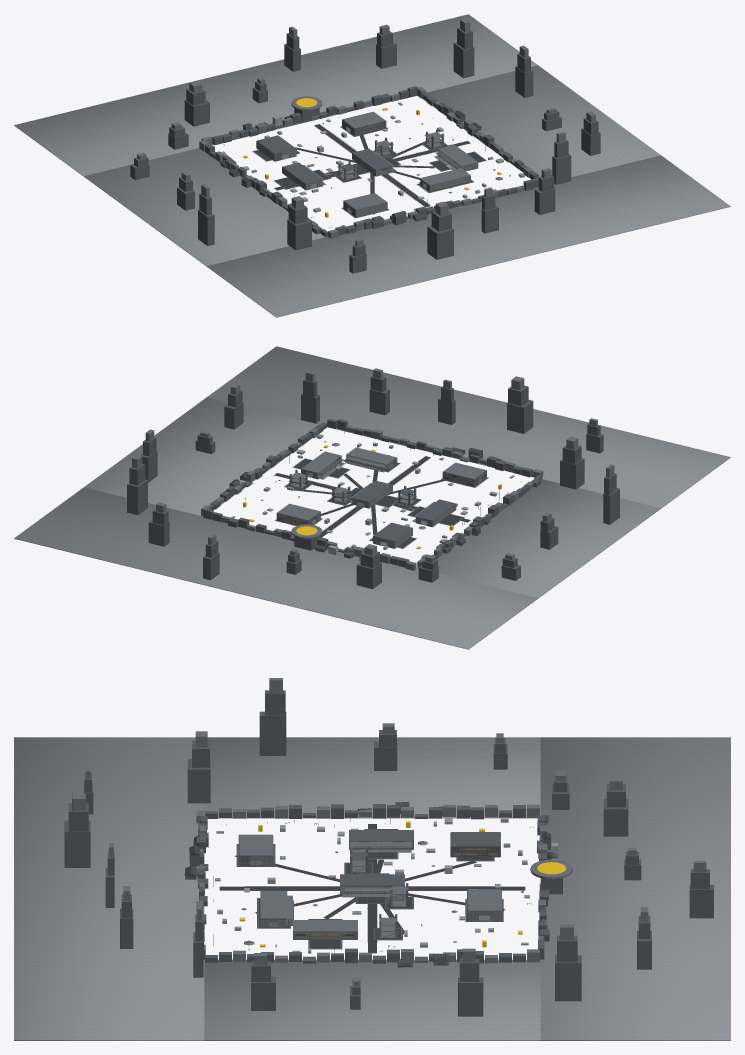
Rendered from okujou-lod1.glb.
3 renders of one model, top to bottom at view 1: azimuth 30°, elevation 25°; view 2: azimuth 150°, elevation 25°; view 3: azimuth 270°, elevation 25°, orthographic. The views are drawn at different scales.
Visible parts, largest first — view 1: HB_okujou_LOD1_terrain, HB_okujou_LOD1_wall_alt, HB_okujou_LOD1_wall, HB_okujou_LOD1_road, HB_okujou_LOD1_obstacle, HB_okujou_LOD1_trim; view 2: HB_okujou_LOD1_terrain, HB_okujou_LOD1_wall_alt, HB_okujou_LOD1_wall, HB_okujou_LOD1_road, HB_okujou_LOD1_obstacle, HB_okujou_LOD1_trim; view 3: HB_okujou_LOD1_terrain, HB_okujou_LOD1_wall_alt, HB_okujou_LOD1_wall, HB_okujou_LOD1_road, HB_okujou_LOD1_obstacle, HB_okujou_LOD1_trim.
Boxes of the visible parts, <box> form: HB_okujou_LOD1_terrain: <box>14,14,730,317</box>; HB_okujou_LOD1_wall_alt: <box>130,27,600,273</box>; HB_okujou_LOD1_wall: <box>137,18,595,246</box>; HB_okujou_LOD1_road: <box>253,124,486,218</box>; HB_okujou_LOD1_obstacle: <box>220,102,524,226</box>; HB_okujou_LOD1_trim: <box>220,109,510,227</box>; HB_okujou_LOD1_terrain: <box>14,346,730,649</box>; HB_okujou_LOD1_wall_alt: <box>127,376,619,588</box>; HB_okujou_LOD1_wall: <box>132,368,614,570</box>; HB_okujou_LOD1_road: <box>274,456,487,548</box>; HB_okujou_LOD1_obstacle: <box>231,434,514,561</box>; HB_okujou_LOD1_trim: <box>229,431,521,554</box>; HB_okujou_LOD1_terrain: <box>14,737,730,1040</box>; HB_okujou_LOD1_wall_alt: <box>64,690,713,1016</box>; HB_okujou_LOD1_wall: <box>72,678,706,985</box>; HB_okujou_LOD1_road: <box>219,824,525,953</box>; HB_okujou_LOD1_obstacle: <box>215,817,558,953</box>; HB_okujou_LOD1_trim: <box>184,802,554,966</box>.
Bounding box in the file's own units: 640 × 74.54 × 640.
10 materials, 8 textured.
